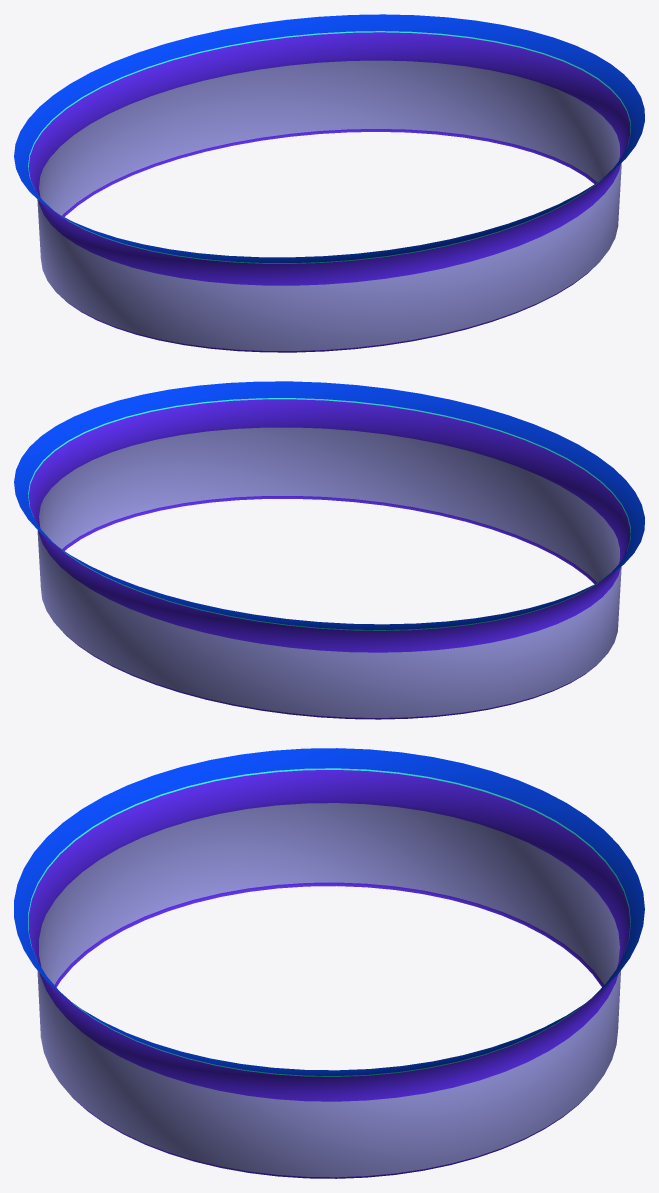
File: Outer Rim Arena Upper.FBX
The picture shows the model from 3 angles, top to bottom: view 1: azimuth 30°, elevation 25°; view 2: azimuth 150°, elevation 25°; view 3: azimuth 270°, elevation 25°; orthographic projection. The views are drawn at different scales.
Visible parts, largest first — view 1: Arena002; view 2: Arena002; view 3: Arena002.
Boxes of the visible parts, x1=… form: Arena002: x1=14, y1=14, x2=644, y2=352; Arena002: x1=14, y1=381, x2=644, y2=719; Arena002: x1=14, y1=748, x2=644, y2=1178.
Size of the model in its own units: 154 by 27.5 by 128.
